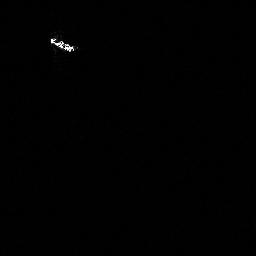ship: (46, 34, 79, 55)
